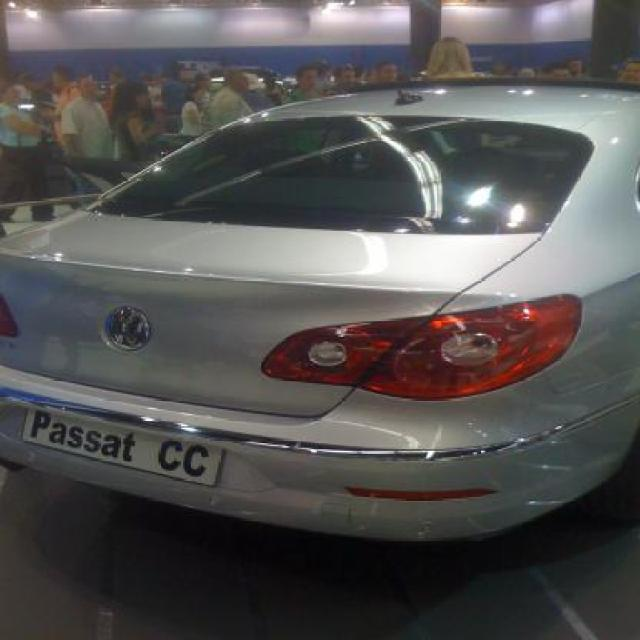Licenseplate: (14, 397, 218, 490)
